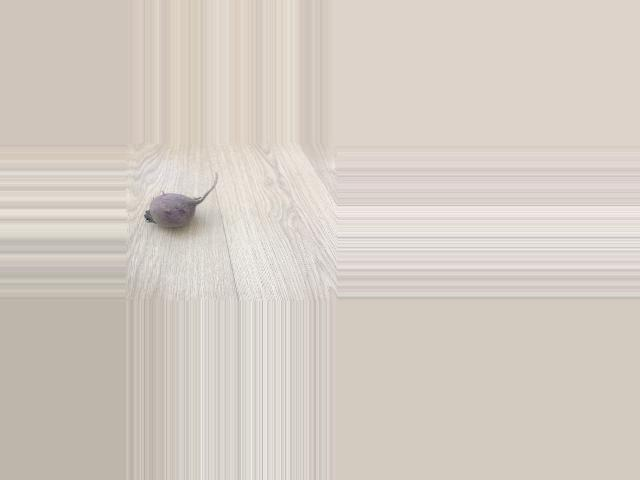beet: (145, 172, 220, 227)
